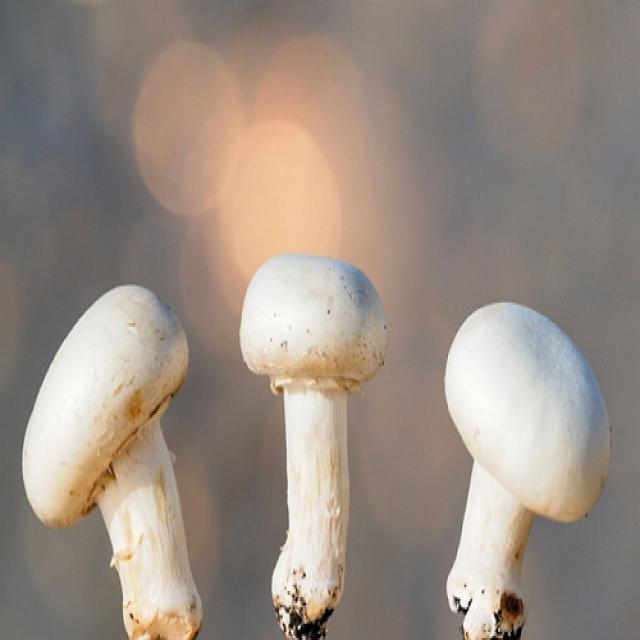Agaricus bisporus: (22, 281, 205, 637), (445, 300, 615, 640), (241, 251, 389, 636)
